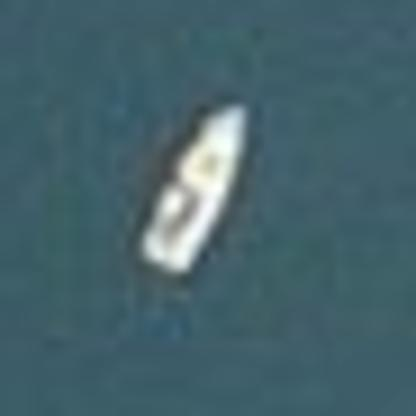ship: (119, 87, 260, 282)
